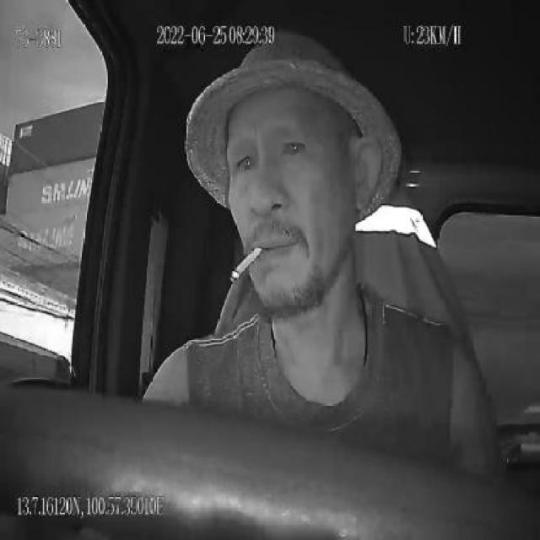smoking: (230, 244, 262, 283)
